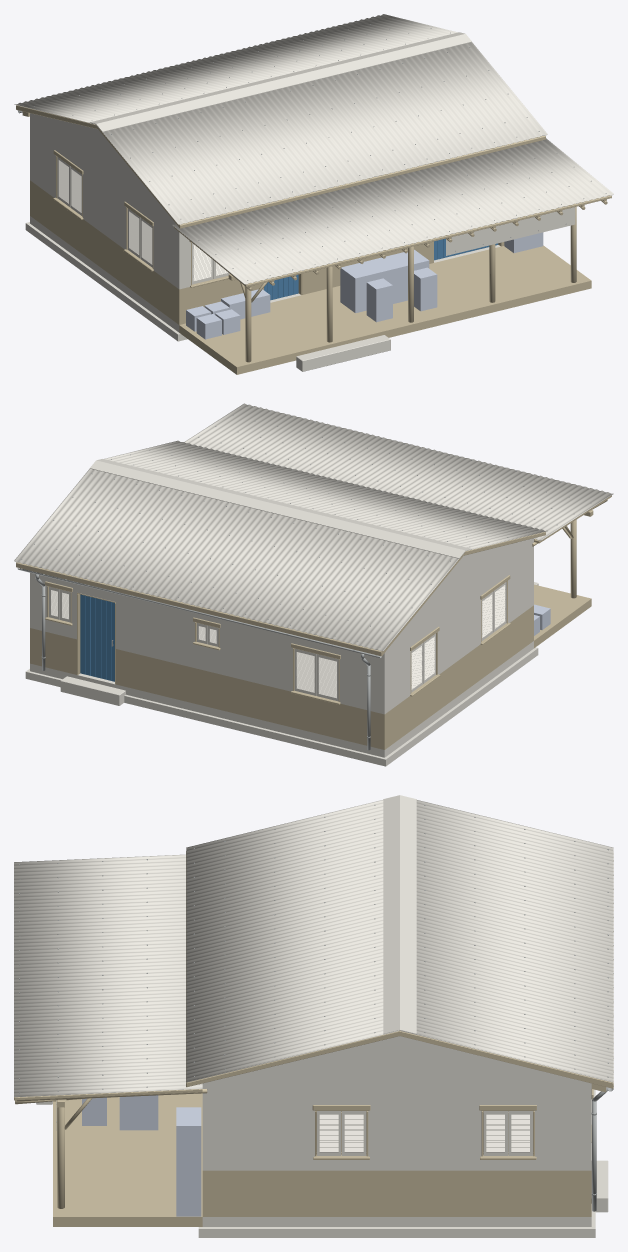
The model's file is riviere_noire_H03.glb.
The picture shows the model from 3 angles, top to bottom: view 1: azimuth 30°, elevation 25°; view 2: azimuth 150°, elevation 25°; view 3: azimuth 270°, elevation 25°; orthographic projection. The views are drawn at different scales.
Visible parts, largest first — view 1: Shell_RoofSheetSouth, Shell_Structure, Shell_PorchRoofSheet, Shell_RoofSheetNorth, Shell_RidgeCap, shutter_paint, Ph_workshop2_workbench_01, Shell_RoofDeckMain, Shell_PorchPosts, new_tarp_green, Shell_GableWest, concrete_cast (+9 smaller); view 2: Shell_Structure, Shell_RoofSheetNorth, Shell_PorchRoofSheet, Shell_RoofSheetSouth, shutter_paint, Shell_RidgeCap, Shell_RoofDeckMain, DoorLeaf_08_R_in, Shell_PorchRafters, galvanized_steel, Shell_GableWest, concrete_cast (+1 smaller); view 3: Shell_Structure, Shell_RoofSheetNorth, Shell_RoofSheetSouth, Shell_PorchRoofSheet, Shell_GableEast, Shell_RidgeCap, shutter_paint, Ph_workshop2_storage_rack_01, Shell_RoofDeckMain, Shell_PorchRafters, Ph_workshop2_workbench_01, galvanized_steel (+4 smaller).
Part boxes in pixels (<box>): Shell_RoofSheetSouth: <box>96,42,547,224</box>; Shell_Structure: <box>25,113,591,374</box>; Shell_PorchRoofSheet: <box>172,138,613,284</box>; Shell_RoofSheetNorth: <box>14,14,457,124</box>; Shell_RidgeCap: <box>89,32,471,131</box>; shutter_paint: <box>57,157,229,284</box>; Ph_workshop2_workbench_01: <box>340,249,429,313</box>; Shell_RoofDeckMain: <box>16,105,545,228</box>; Shell_PorchPosts: <box>245,206,576,362</box>; new_tarp_green: <box>446,207,575,255</box>; Shell_GableWest: <box>35,114,162,207</box>; concrete_cast: <box>296,335,390,371</box>; Shell_Structure: <box>25,538,591,766</box>; Shell_RoofSheetNorth: <box>14,468,464,651</box>; Shell_PorchRoofSheet: <box>184,403,613,540</box>; Shell_RoofSheetSouth: <box>104,440,547,551</box>; shutter_paint: <box>49,582,506,701</box>; Shell_RidgeCap: <box>89,459,471,558</box>; Shell_RoofDeckMain: <box>16,531,545,656</box>; DoorLeaf_08_R_in: <box>80,594,114,681</box>; Shell_PorchRafters: <box>45,542,538,704</box>; galvanized_steel: <box>17,405,606,750</box>; Shell_GableWest: <box>401,539,527,632</box>; concrete_cast: <box>60,582,538,705</box>; Shell_Structure: <box>53,1080,595,1237</box>; Shell_RoofSheetNorth: <box>400,800,613,1082</box>; Shell_RoofSheetSouth: <box>186,800,399,1082</box>; Shell_PorchRoofSheet: <box>14,854,202,1097</box>; Shell_GableEast: <box>218,1036,576,1079</box>; Shell_RidgeCap: <box>383,795,416,1034</box>; shutter_paint: <box>317,1111,532,1155</box>; Ph_workshop2_storage_rack_01: <box>176,1107,201,1216</box>; Shell_RoofDeckMain: <box>186,851,613,1088</box>; Shell_PorchRafters: <box>16,1089,593,1159</box>; Ph_workshop2_workbench_01: <box>119,1095,158,1130</box>; galvanized_steel: <box>19,804,613,1211</box>.
Size of the model in its own units: 10 by 4.19 by 10.81.
